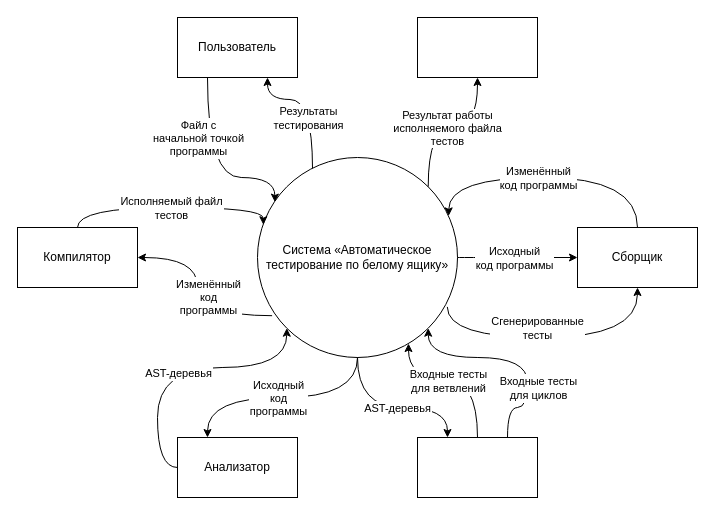
The diagram is 715 pixels wide and 515 high, and some of its shapes have lost their labels. Here are the shapes that lost their labels. From the top down, the centre of each, then its label:
point (477, 47): Окно вывода
point (477, 467): Генератор
